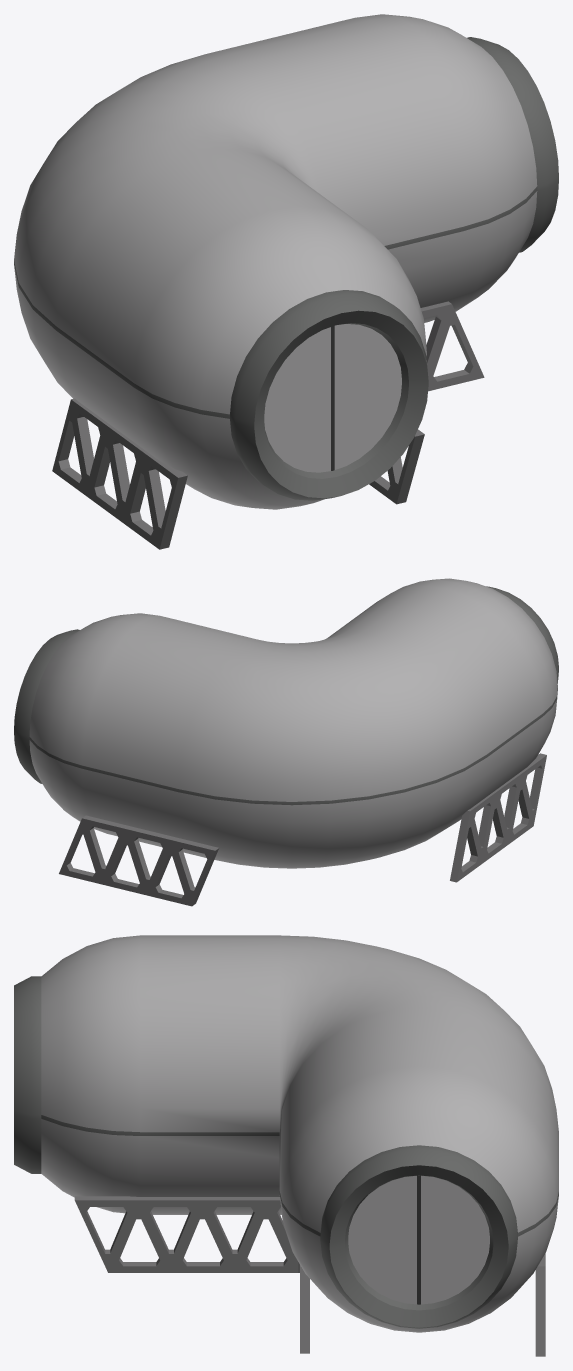
The model's file is Building_L_Sphere.obj.
3 renders of one model, top to bottom at view 1: azimuth 30°, elevation 25°; view 2: azimuth 150°, elevation 25°; view 3: azimuth 270°, elevation 25°, orthographic. The views are drawn at different scales.
Visible parts, largest first — view 1: Building_L_Sphere.026; view 2: Building_L_Sphere.026; view 3: Building_L_Sphere.026.
Part boxes in pixels (<box>): Building_L_Sphere.026: <box>14,14,558,549</box>; Building_L_Sphere.026: <box>14,578,558,906</box>; Building_L_Sphere.026: <box>14,935,558,1356</box>.
Bounding box in the file's own units: 7.8 × 4.31 × 7.79.
